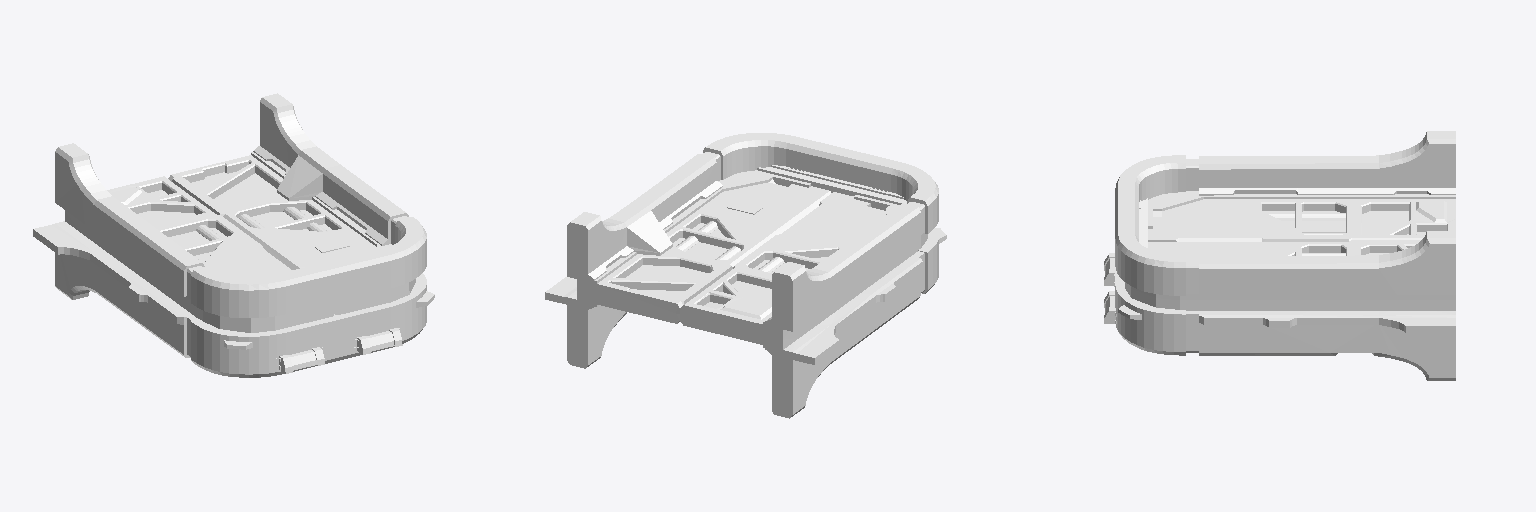
File: puerta.obj
3 renders of one model, left to right at view 1: azimuth 30°, elevation 25°; view 2: azimuth 150°, elevation 25°; view 3: azimuth 270°, elevation 25°, orthographic.
Parts seen in each view (by area): view 1: Object.1; view 2: Object.1; view 3: Object.1.
Boxes of the visible parts, x1,y1,x2,y2 form: Object.1: [33, 93, 434, 377]; Object.1: [545, 133, 946, 418]; Object.1: [1104, 131, 1455, 380].
Size of the model in its own units: 2254 by 1139 by 2551.